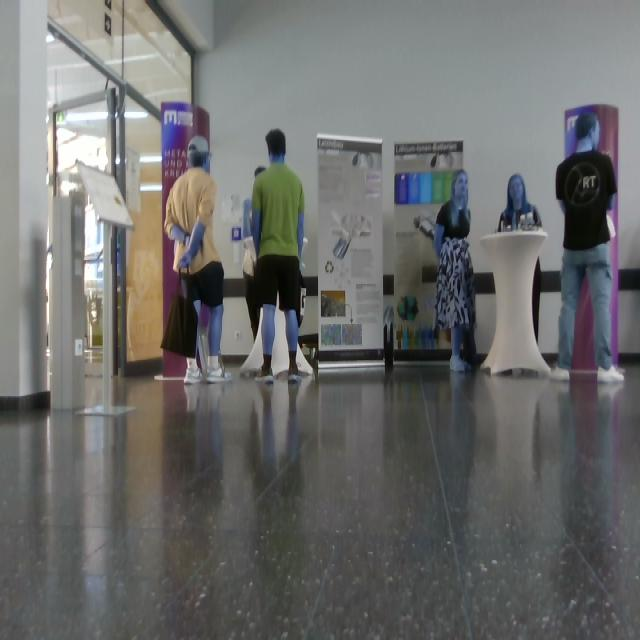banner: (389, 141, 463, 368), (319, 134, 384, 373), (162, 102, 210, 332), (566, 105, 619, 185), (574, 281, 596, 370), (610, 190, 619, 365), (163, 352, 187, 382)
person: (552, 114, 624, 382), (165, 136, 232, 381), (252, 129, 305, 381), (435, 172, 475, 373), (499, 174, 542, 232), (534, 282, 540, 320)
pillar: (1, 1, 48, 406)
table: (481, 229, 550, 374)
